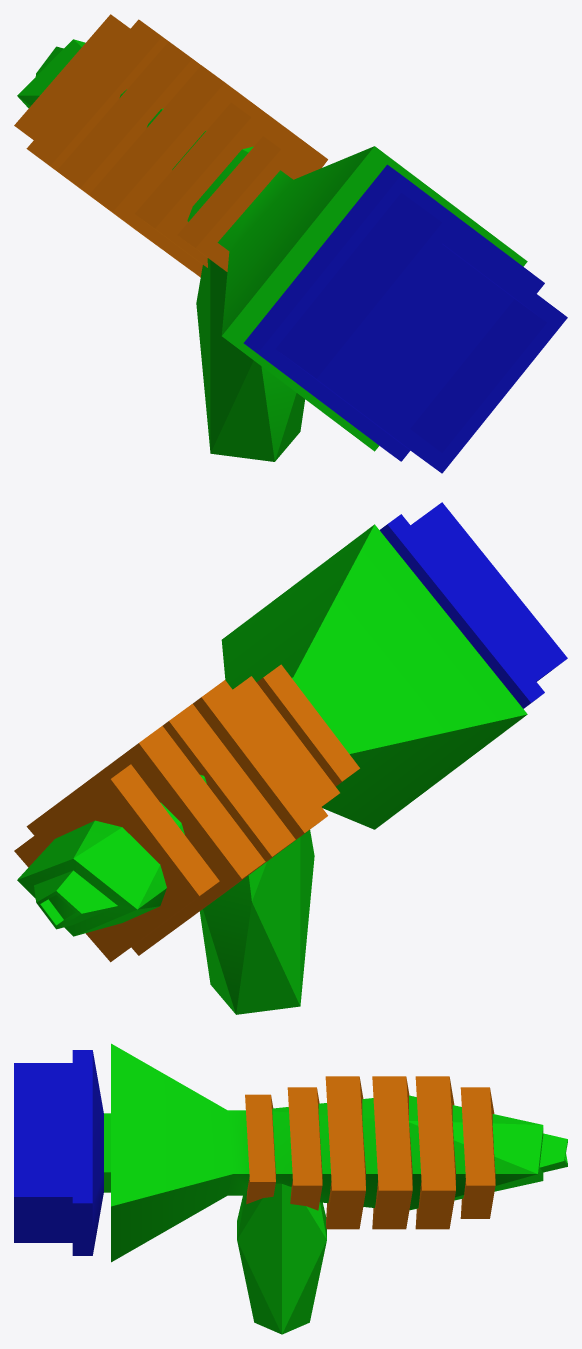
The model's file is Gun.fbx.
3 views of the same model, one above another, from view 1: azimuth 30°, elevation 25°; view 2: azimuth 150°, elevation 25°; view 3: azimuth 270°, elevation 25° (orthographic). The views are drawn at different scales.
Visible parts, largest first — view 1: Platonic_8, Platonic, Platonic_1, Platonic_3, Platonic_2, Platonic_4, Platonic_5, Platonic_7, Platonic_6; view 2: Platonic, Platonic_1, Platonic_8, Platonic_5, Platonic_6, Platonic_3, Platonic_4, Platonic_7, Platonic_2; view 3: Platonic, Platonic_8, Platonic_1, Platonic_5, Platonic_3, Platonic_4, Platonic_6, Platonic_2, Platonic_7.
Part boxes in pixels (box(x1,y1,x2,y2)): Platonic_8: box(243, 164, 567, 473); Platonic: box(17, 39, 527, 451); Platonic_1: box(196, 258, 305, 461); Platonic_3: box(89, 65, 327, 277); Platonic_2: box(135, 102, 319, 267); Platonic_4: box(57, 41, 200, 267); Platonic_5: box(26, 19, 168, 248); Platonic_7: box(177, 136, 311, 271); Platonic_6: box(14, 14, 130, 139); Platonic: box(17, 524, 527, 936); Platonic_1: box(199, 830, 314, 1014); Platonic_8: box(379, 502, 567, 708); Platonic_5: box(26, 726, 265, 955); Platonic_6: box(14, 764, 219, 962); Platonic_3: box(193, 680, 327, 904); Platonic_4: box(162, 704, 295, 930); Platonic_7: box(256, 664, 359, 786); Platonic_2: box(233, 676, 339, 806); Platonic: box(104, 1043, 567, 1262); Platonic_8: box(14, 1050, 103, 1255); Platonic_1: box(237, 1183, 326, 1334); Platonic_5: box(415, 1076, 455, 1229); Platonic_3: box(325, 1076, 365, 1229); Platonic_4: box(372, 1076, 412, 1229); Platonic_6: box(460, 1087, 495, 1218); Platonic_2: box(287, 1087, 322, 1210); Platonic_7: box(245, 1094, 275, 1204).
Size of the model in its own units: 386 by 468 by 842.
